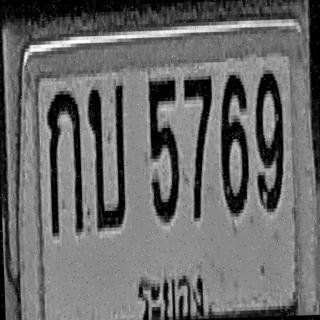A01: (46, 88, 84, 234)
A26: (86, 80, 128, 230)
N05: (147, 77, 180, 222)
N06: (218, 71, 250, 214)
N07: (183, 72, 216, 218)
N09: (254, 68, 285, 211)
P53: (132, 255, 210, 320)
